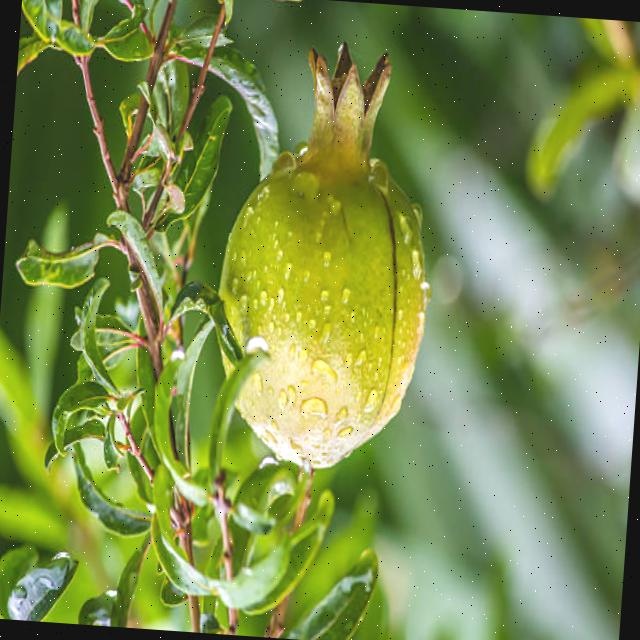Unripe: (208, 31, 442, 478)
